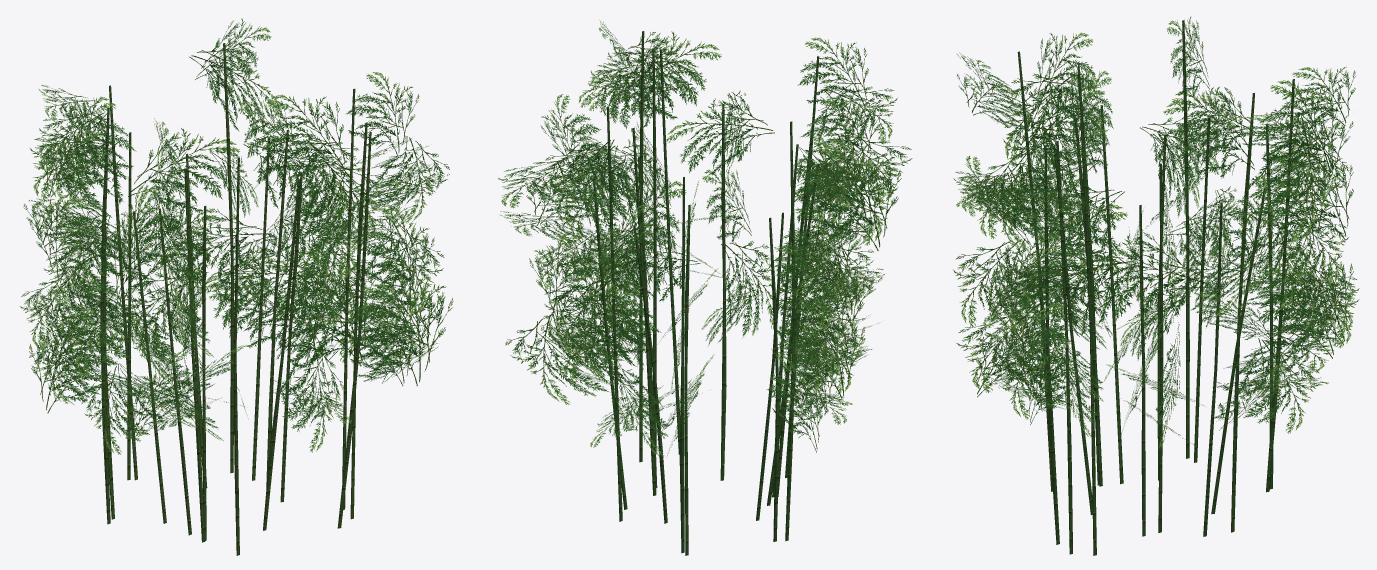
File: far.glb
3 renders of one model, left to right at view 1: azimuth 30°, elevation 25°; view 2: azimuth 150°, elevation 25°; view 3: azimuth 270°, elevation 25°, orthographic. The views are drawn at different scales.
Parts seen in each view (by area): view 1: lod1, lod2; view 2: lod2, lod1; view 3: lod1, lod2.
Boxes of the visible parts, <box> form: lod1: <box>19,18,449,555</box>; lod2: <box>23,40,453,555</box>; lod2: <box>498,31,912,555</box>; lod1: <box>525,21,887,555</box>; lod1: <box>953,20,1355,555</box>; lod2: <box>952,16,1359,554</box>.
Size of the model in its own units: 38.77 by 49.09 by 41.08.
2 materials, 2 textured.
